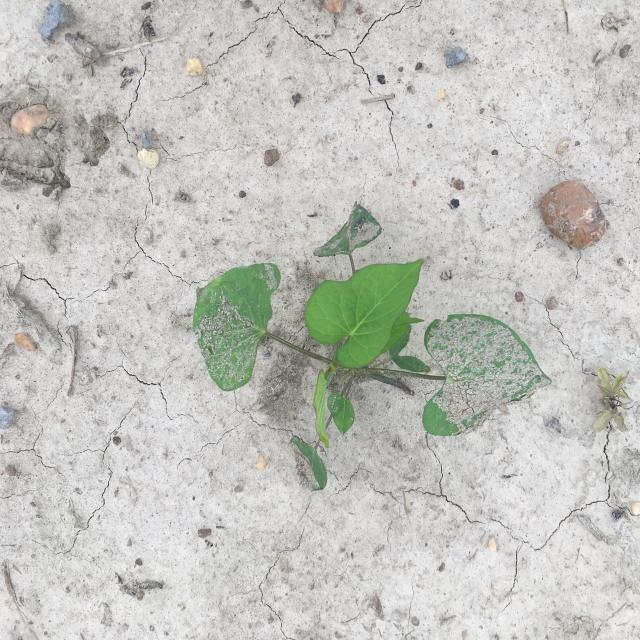MorningGlory: (192, 201, 553, 492), (591, 366, 630, 434)
